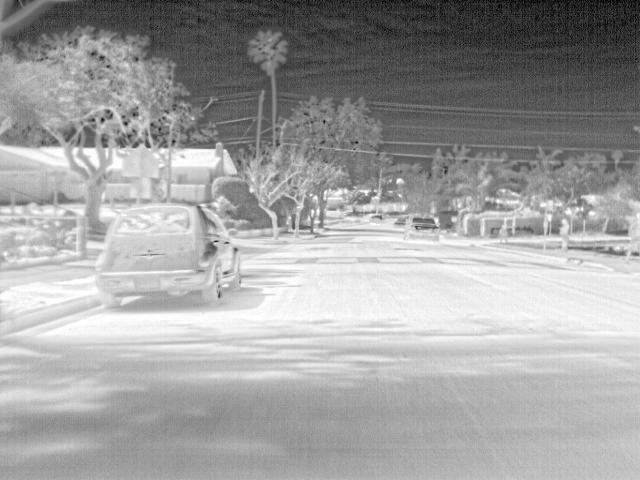car: (97, 205, 243, 313), (405, 218, 439, 244), (393, 218, 406, 230)
person: (626, 211, 640, 255), (561, 220, 573, 252), (498, 226, 507, 243)
